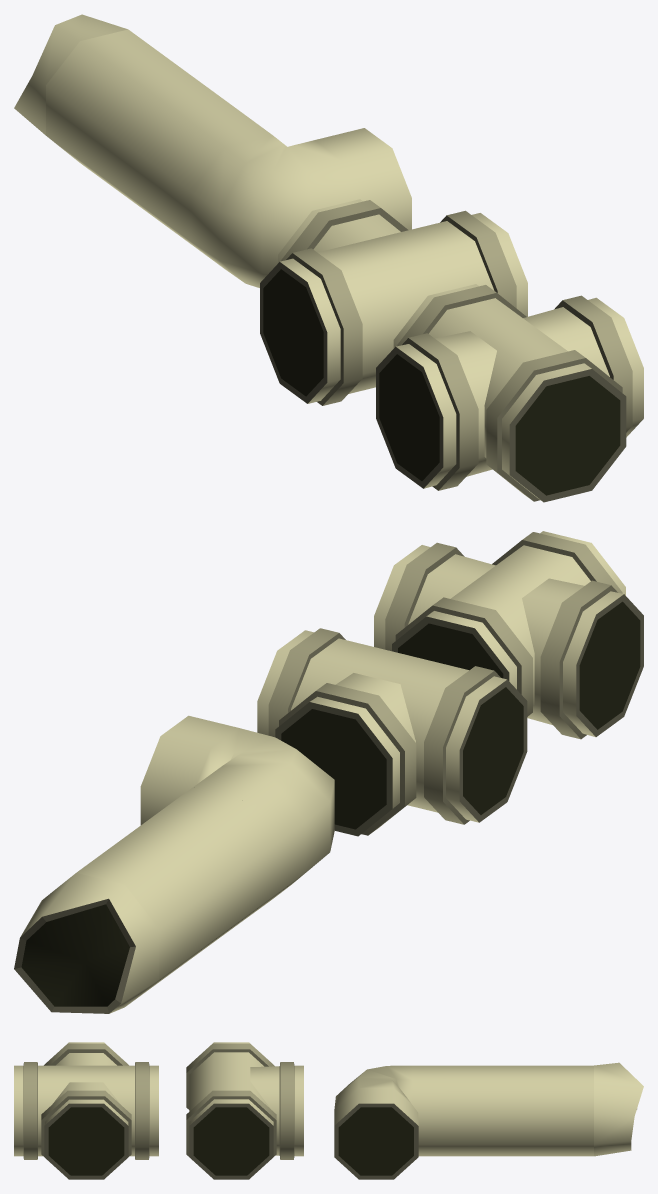
The model's file is DisposalPipes.fbx.
3 views of the same model, one above another, from view 1: azimuth 30°, elevation 25°; view 2: azimuth 150°, elevation 25°; view 3: azimuth 270°, elevation 25° (orthographic). The views are drawn at different scales.
Parts seen in each view (by area): view 1: DisposalPipeX, DisposalPipeT, DisposalPipeL, DisposalPipeI, DisposalPipeBroken; view 2: DisposalPipeT, DisposalPipeX, DisposalPipeI, DisposalPipeL, DisposalPipeBroken; view 3: DisposalPipeX, DisposalPipeT, DisposalPipeI, DisposalPipeL, DisposalPipeBroken.
Part boxes in pixels (x1,y1,x2,y2): DisposalPipeX: (376, 284, 643, 502); DisposalPipeT: (260, 199, 527, 405); DisposalPipeL: (162, 114, 411, 287); DisposalPipeI: (46, 29, 243, 246); DisposalPipeBroken: (14, 14, 127, 135); DisposalPipeT: (257, 628, 527, 836); DisposalPipeX: (374, 531, 643, 739); DisposalPipeI: (76, 787, 275, 1004); DisposalPipeL: (140, 715, 334, 920); DisposalPipeBroken: (14, 873, 158, 1013); DisposalPipeX: (14, 1042, 158, 1179); DisposalPipeT: (186, 1042, 303, 1179); DisposalPipeI: (449, 1065, 593, 1156); DisposalPipeL: (334, 1065, 448, 1179); DisposalPipeBroken: (594, 1062, 643, 1156).
Bounding box in the file's own units: 1 × 0.6243 × 4.35.
